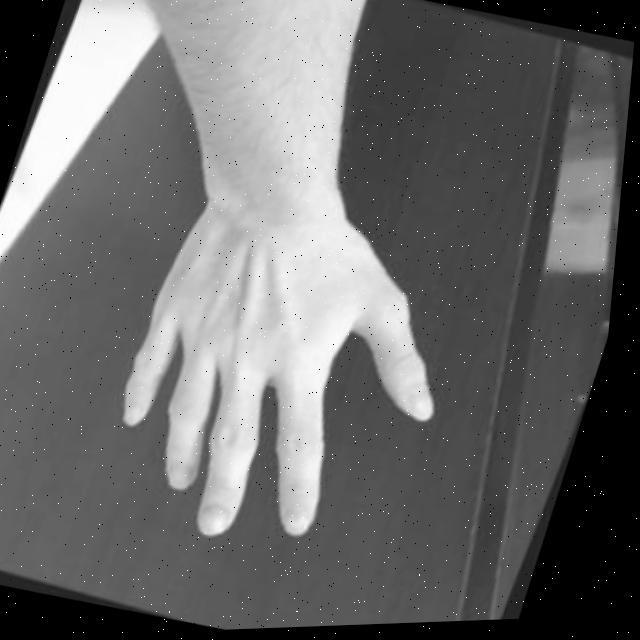no-gloves: (86, 178, 498, 586)
